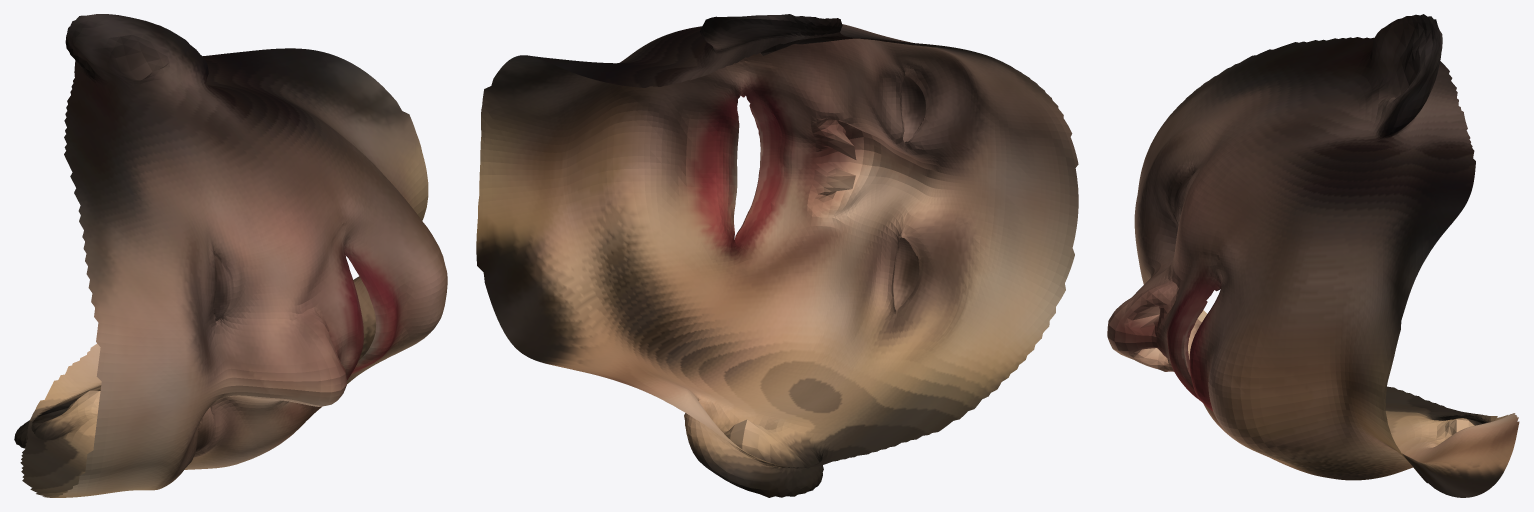
The model's file is self_0.obj.
3 renders of one model, left to right at view 1: azimuth 30°, elevation 25°; view 2: azimuth 150°, elevation 25°; view 3: azimuth 270°, elevation 25°, orthographic. The views are drawn at different scales.
Size of the model in its own units: 126 by 114 by 99.44.
